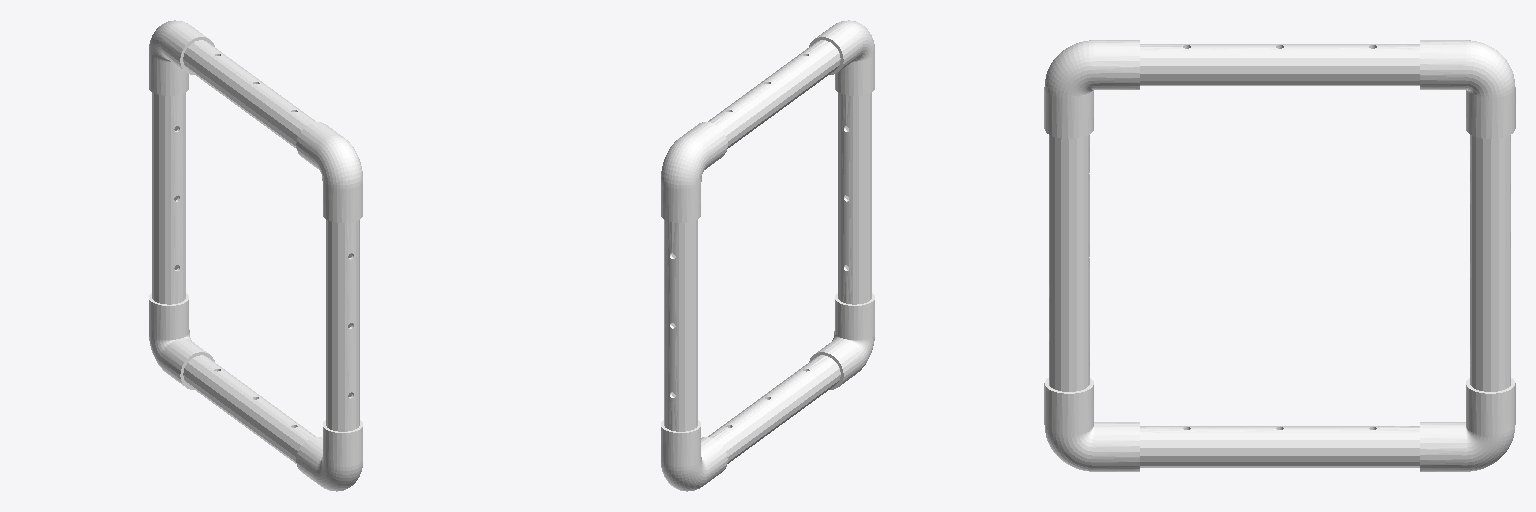
robot.urdf — Rover:
<?xml version="1.0" encoding="utf-8"?>
<!-- This URDF was automatically created by SolidWorks to URDF Exporter! Originally created by [author] ([email redacted]) 
     Commit Version: 1.6.0-4-g7f85cfe  Build Version: 1.6.7995.38578
     For more information, please see http://wiki.ros.org/sw_urdf_exporter -->
<robot
  name="Rover">
  <link
    name="base_link">
    <inertial>
      <origin
        xyz="0.0150546907286868 -0.283392114189935 0.29968731948345"
        rpy="0 0 0" />
      <mass
        value="2.34759592693503" />
      <inertia
        ixx="0.029674640240319"
        ixy="1.66552410346759E-08"
        ixz="4.93691536998708E-08"
        iyy="0.0155302069570009"
        iyz="-4.63940097416551E-09"
        izz="0.0155302060276331" />
    </inertial>
    <visual>
      <origin
        xyz="0 0 0"
        rpy="0 0 0" />
      <geometry>
        <mesh
          filename="package://Rover/meshes/base_link.STL" />
      </geometry>
      <material
        name="">
        <color
          rgba="1 1 1 1" />
      </material>
    </visual>
    <collision>
      <origin
        xyz="0 0 0"
        rpy="0 0 0" />
      <geometry>
        <mesh
          filename="package://Rover/meshes/base_link.STL" />
      </geometry>
    </collision>
  </link>
  <link
    name="chassis_link_1">
    <inertial>
      <origin
        xyz="5.67752567667834E-08 -7.50847315919567E-09 0.225000029977437"
        rpy="0 0 0" />
      <mass
        value="0.410430097030497" />
      <inertia
        ixx="0.00705793382376491"
        ixy="4.22623146558338E-10"
        ixz="-2.31977484743533E-09"
        iyy="0.00705640614879542"
        iyz="3.50078314614505E-11"
        izz="0.000210358543028732" />
    </inertial>
    <visual>
      <origin
        xyz="0 0 0"
        rpy="0 0 0" />
      <geometry>
        <mesh
          filename="package://Rover/meshes/chassis_link_1.STL" />
      </geometry>
      <material
        name="">
        <color
          rgba="1 1 1 1" />
      </material>
    </visual>
    <collision>
      <origin
        xyz="0 0 0"
        rpy="0 0 0" />
      <geometry>
        <mesh
          filename="package://Rover/meshes/chassis_link_1.STL" />
      </geometry>
    </collision>
  </link>
  <joint
    name="chassis_joint1"
    type="fixed">
    <origin
      xyz="0.015055 -0.028392 0.074687"
      rpy="0 0 1.5654" />
    <parent
      link="base_link" />
    <child
      link="chassis_link_1" />
    <axis
      xyz="0 0 0" />
  </joint>
  <link
    name="chassis_link_2">
    <inertial>
      <origin
        xyz="5.67752564961665E-08 -7.50847342113892E-09 0.225000029977437"
        rpy="0 0 0" />
      <mass
        value="0.410430097030498" />
      <inertia
        ixx="0.00705793382376492"
        ixy="4.22623146493963E-10"
        ixz="-2.3197748378935E-09"
        iyy="0.00705640614879543"
        iyz="3.50078394219153E-11"
        izz="0.000210358543028732" />
    </inertial>
    <visual>
      <origin
        xyz="0 0 0"
        rpy="0 0 0" />
      <geometry>
        <mesh
          filename="package://Rover/meshes/chassis_link_2.STL" />
      </geometry>
      <material
        name="">
        <color
          rgba="1 1 1 1" />
      </material>
    </visual>
    <collision>
      <origin
        xyz="0 0 0"
        rpy="0 0 0" />
      <geometry>
        <mesh
          filename="package://Rover/meshes/chassis_link_2.STL" />
      </geometry>
    </collision>
  </link>
  <joint
    name="chassis_joint_2"
    type="fixed">
    <origin
      xyz="0.015055 -0.50839 0.55469"
      rpy="-1.5708 -1.5464 0" />
    <parent
      link="base_link" />
    <child
      link="chassis_link_2" />
    <axis
      xyz="0 0 0" />
  </joint>
  <link
    name="chassis_link_3">
    <inertial>
      <origin
        xyz="5.67752567182112E-08 -7.5084734714459E-09 0.225000029977437"
        rpy="0 0 0" />
      <mass
        value="0.410430097030497" />
      <inertia
        ixx="0.00705793382376491"
        ixy="4.22623146527845E-10"
        ixz="-2.31977484768387E-09"
        iyy="0.00705640614879542"
        iyz="3.50078409396336E-11"
        izz="0.000210358543028732" />
    </inertial>
    <visual>
      <origin
        xyz="0 0 0"
        rpy="0 0 0" />
      <geometry>
        <mesh
          filename="package://Rover/meshes/chassis_link_3.STL" />
      </geometry>
      <material
        name="">
        <color
          rgba="1 1 1 1" />
      </material>
    </visual>
    <collision>
      <origin
        xyz="0 0 0"
        rpy="0 0 0" />
      <geometry>
        <mesh
          filename="package://Rover/meshes/chassis_link_3.STL" />
      </geometry>
    </collision>
  </link>
  <joint
    name="chassis_joint_3"
    type="fixed">
    <origin
      xyz="0.015055 -0.53839 0.074687"
      rpy="0 0 -1.5769" />
    <parent
      link="base_link" />
    <child
      link="chassis_link_3" />
    <axis
      xyz="0 0 0" />
  </joint>
  <link
    name="chassis_link_4">
    <inertial>
      <origin
        xyz="5.67752567737223E-08 -7.5084734714459E-09 0.225000029977437"
        rpy="0 0 0" />
      <mass
        value="0.410430097030497" />
      <inertia
        ixx="0.0070579338237649"
        ixy="4.22623146521068E-10"
        ixz="-2.3197748477071E-09"
        iyy="0.00705640614879541"
        iyz="3.50078409705271E-11"
        izz="0.000210358543028732" />
    </inertial>
    <visual>
      <origin
        xyz="0 0 0"
        rpy="0 0 0" />
      <geometry>
        <mesh
          filename="package://Rover/meshes/chassis_link_4.STL" />
      </geometry>
      <material
        name="">
        <color
          rgba="1 1 1 1" />
      </material>
    </visual>
    <collision>
      <origin
        xyz="0 0 0"
        rpy="0 0 0" />
      <geometry>
        <mesh
          filename="package://Rover/meshes/chassis_link_4.STL" />
      </geometry>
    </collision>
  </link>
  <joint
    name="chassis_joint_4"
    type="fixed">
    <origin
      xyz="0.015055 -0.058392 0.044687"
      rpy="-1.5708 1.5629 -3.1416" />
    <parent
      link="base_link" />
    <child
      link="chassis_link_4" />
    <axis
      xyz="0 0 0" />
  </joint>
  <link
    name="connector_link_1">
    <inertial>
      <origin
        xyz="-1.90819582357449E-17 0.0209705010372951 -0.0640294989627049"
        rpy="0 0 0" />
      <mass
        value="0.17646888470326" />
      <inertia
        ixx="0.000362253633031466"
        ixy="3.70654572477765E-20"
        ixz="-3.76153637418014E-20"
        iyy="0.000248405578808851"
        iyz="8.18802897658648E-05"
        izz="0.000248405578808851" />
    </inertial>
    <visual>
      <origin
        xyz="0 0 0"
        rpy="0 0 0" />
      <geometry>
        <mesh
          filename="package://Rover/meshes/connector_link_1.STL" />
      </geometry>
      <material
        name="">
        <color
          rgba="1 1 1 1" />
      </material>
    </visual>
    <collision>
      <origin
        xyz="0 0 0"
        rpy="0 0 0" />
      <geometry>
        <mesh
          filename="package://Rover/meshes/connector_link_1.STL" />
      </geometry>
    </collision>
  </link>
  <joint
    name="connector_joint_1"
    type="fixed">
    <origin
      xyz="0.015055 -0.11339 0.55469"
      rpy="-1.5708 0 3.1416" />
    <parent
      link="base_link" />
    <child
      link="connector_link_1" />
    <axis
      xyz="0 0 0" />
  </joint>
  <link
    name="connector_link_2">
    <inertial>
      <origin
        xyz="8.50014503228635E-17 0.020970501037295 -0.0640294989627049"
        rpy="0 0 0" />
      <mass
        value="0.17646888470326" />
      <inertia
        ixx="0.000362253633031467"
        ixy="-1.00839692757114E-19"
        ixz="1.51088819580407E-19"
        iyy="0.000248405578808852"
        iyz="8.18802897658648E-05"
        izz="0.000248405578808851" />
    </inertial>
    <visual>
      <origin
        xyz="0 0 0"
        rpy="0 0 0" />
      <geometry>
        <mesh
          filename="package://Rover/meshes/connector_link_2.STL" />
      </geometry>
      <material
        name="">
        <color
          rgba="1 1 1 1" />
      </material>
    </visual>
    <collision>
      <origin
        xyz="0 0 0"
        rpy="0 0 0" />
      <geometry>
        <mesh
          filename="package://Rover/meshes/connector_link_2.STL" />
      </geometry>
    </collision>
  </link>
  <joint
    name="connector_joint_2"
    type="fixed">
    <origin
      xyz="0.015055 -0.45339 0.55469"
      rpy="-1.5708 0 0" />
    <parent
      link="base_link" />
    <child
      link="connector_link_2" />
    <axis
      xyz="0 0 0" />
  </joint>
  <link
    name="connector_link_3">
    <inertial>
      <origin
        xyz="1.73472347597681E-18 0.0209705010372951 -0.0640294989627049"
        rpy="0 0 0" />
      <mass
        value="0.17646888470326" />
      <inertia
        ixx="0.000362253633031467"
        ixy="1.91350521646029E-20"
        ixz="-8.41998159658864E-21"
        iyy="0.000248405578808851"
        iyz="8.18802897658646E-05"
        izz="0.000248405578808851" />
    </inertial>
    <visual>
      <origin
        xyz="0 0 0"
        rpy="0 0 0" />
      <geometry>
        <mesh
          filename="package://Rover/meshes/connector_link_3.STL" />
      </geometry>
      <material
        name="">
        <color
          rgba="1 1 1 1" />
      </material>
    </visual>
    <collision>
      <origin
        xyz="0 0 0"
        rpy="0 0 0" />
      <geometry>
        <mesh
          filename="package://Rover/meshes/connector_link_3.STL" />
      </geometry>
    </collision>
  </link>
  <joint
    name="connector_joint_3"
    type="fixed">
    <origin
      xyz="0.015055 -0.45339 0.044687"
      rpy="1.5708 0 -3.1416" />
    <parent
      link="base_link" />
    <child
      link="connector_link_3" />
    <axis
      xyz="0 0 0" />
  </joint>
  <link
    name="connector_link_4">
    <inertial>
      <origin
        xyz="1.73472347597681E-18 0.0209705010372951 -0.0640294989627049"
        rpy="0 0 0" />
      <mass
        value="0.17646888470326" />
      <inertia
        ixx="0.000362253633031467"
        ixy="1.82977202245832E-20"
        ixz="-8.66488585172545E-21"
        iyy="0.000248405578808851"
        iyz="8.18802897658647E-05"
        izz="0.000248405578808851" />
    </inertial>
    <visual>
      <origin
        xyz="0 0 0"
        rpy="0 0 0" />
      <geometry>
        <mesh
          filename="package://Rover/meshes/connector_link_4.STL" />
      </geometry>
      <material
        name="">
        <color
          rgba="1 1 1 1" />
      </material>
    </visual>
    <collision>
      <origin
        xyz="0 0 0"
        rpy="0 0 0" />
      <geometry>
        <mesh
          filename="package://Rover/meshes/connector_link_4.STL" />
      </geometry>
    </collision>
  </link>
  <joint
    name="connector_joint_4"
    type="fixed">
    <origin
      xyz="0.015055 -0.11339 0.044687"
      rpy="1.5708 0 0" />
    <parent
      link="base_link" />
    <child
      link="connector_link_4" />
    <axis
      xyz="0 0 0" />
  </joint>
</robot>

--- Facts derived from the render (not from the file) ---
3 views of the same robot in one strip: view 1: azimuth 30°, elevation 25°; view 2: azimuth 150°, elevation 25°; view 3: azimuth 270°, elevation 25° (orthographic).
Model Rover with 9 links and 8 joints (8 fixed), rooted at base_link, posed every joint at zero.
Links seen in each view (by area): view 1: base_link, chassis_link_2, chassis_link_4, connector_link_2, connector_link_1, chassis_link_1; view 2: base_link, chassis_link_3, connector_link_1, chassis_link_2, chassis_link_1, chassis_link_4, connector_link_2, connector_link_4, connector_link_3; view 3: base_link, chassis_link_2, chassis_link_1, chassis_link_3, connector_link_2, connector_link_1, connector_link_4, connector_link_3, chassis_link_4.
Link boxes in pixels (<box>): base_link: <box>149,37,362,491</box>; chassis_link_2: <box>186,40,315,138</box>; chassis_link_4: <box>185,374,306,463</box>; connector_link_2: <box>296,122,361,216</box>; connector_link_1: <box>149,20,208,91</box>; chassis_link_1: <box>178,92,185,301</box>; base_link: <box>663,35,874,485</box>; chassis_link_3: <box>838,92,869,304</box>; connector_link_1: <box>661,122,727,222</box>; chassis_link_2: <box>708,40,839,135</box>; chassis_link_1: <box>664,220,684,431</box>; chassis_link_4: <box>727,358,840,463</box>; connector_link_2: <box>809,20,871,95</box>; connector_link_4: <box>661,421,720,491</box>; connector_link_3: <box>809,293,874,389</box>; base_link: <box>1044,45,1495,471</box>; chassis_link_2: <box>1140,44,1419,84</box>; chassis_link_1: <box>1473,135,1510,391</box>; chassis_link_3: <box>1061,135,1089,391</box>; connector_link_2: <box>1052,40,1139,138</box>; connector_link_1: <box>1420,40,1515,138</box>; connector_link_4: <box>1420,378,1515,471</box>; connector_link_3: <box>1045,378,1139,471</box>; chassis_link_4: <box>1140,426,1419,467</box>.
Size in the robot's own frame: 0.06 by 0.57 by 0.57 metres.
Meshes: 9 distinct files referenced, 9 mesh visuals loaded (9 binary STL).